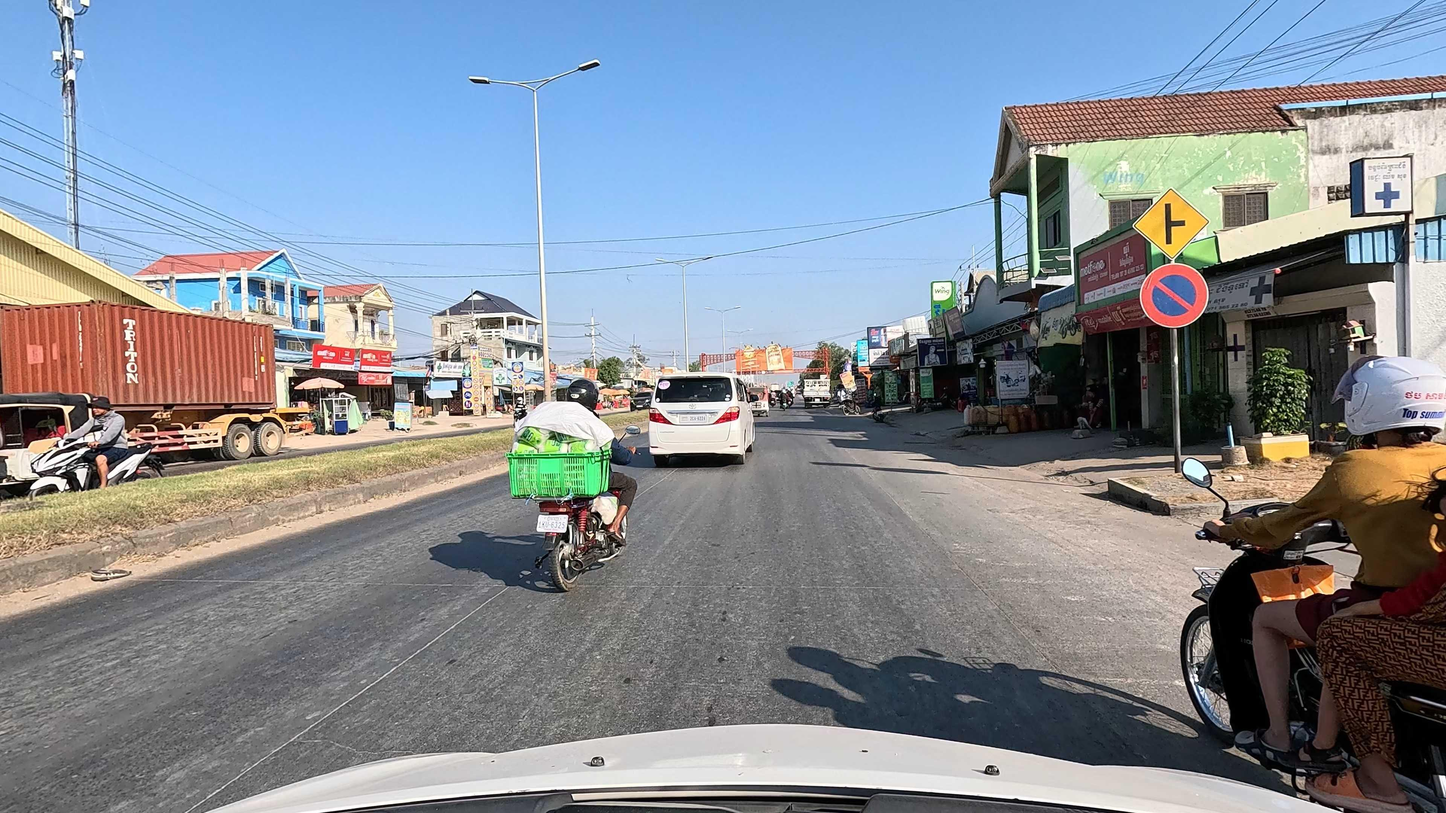parking_prohibited: (1139, 263, 1210, 330)
side_road_junction_right: (1131, 186, 1212, 260)
